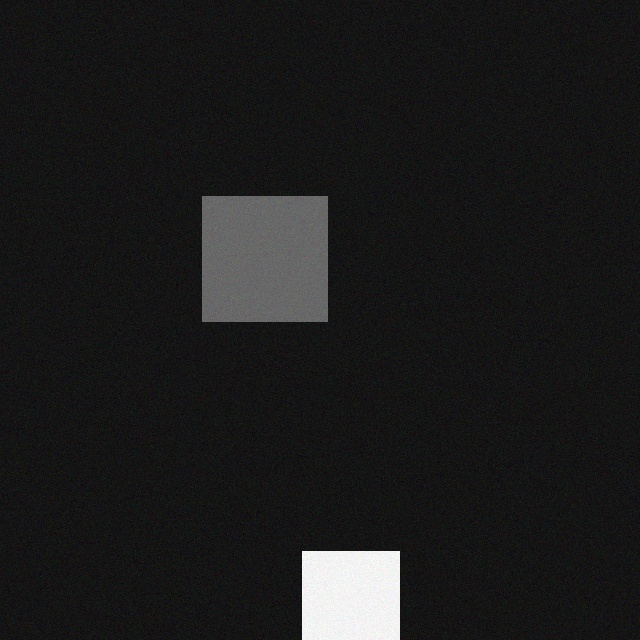square: (198, 187, 323, 312), (298, 542, 395, 639)
